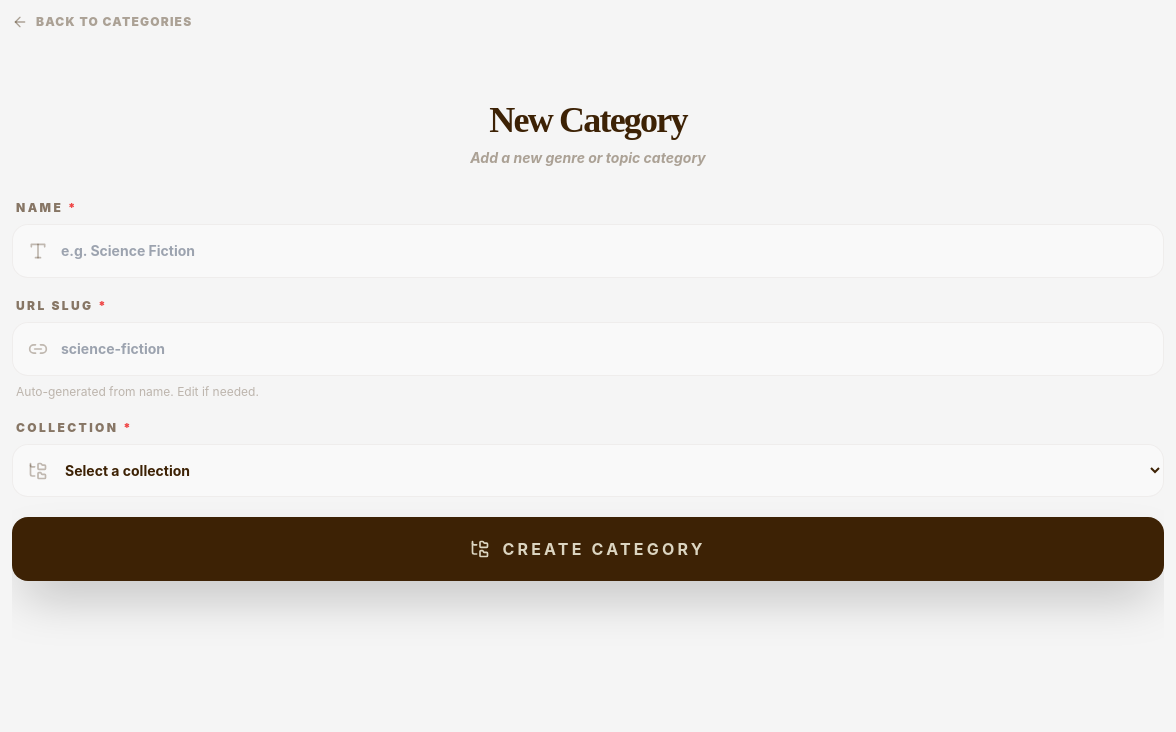
CategoryNewPage › shows error when submitting with empty fields
Expected: the text "Create Category" is shown, [502,537,706,561]
Click the button "Create Category".
click(588, 549)  # box [12,517,1164,581]
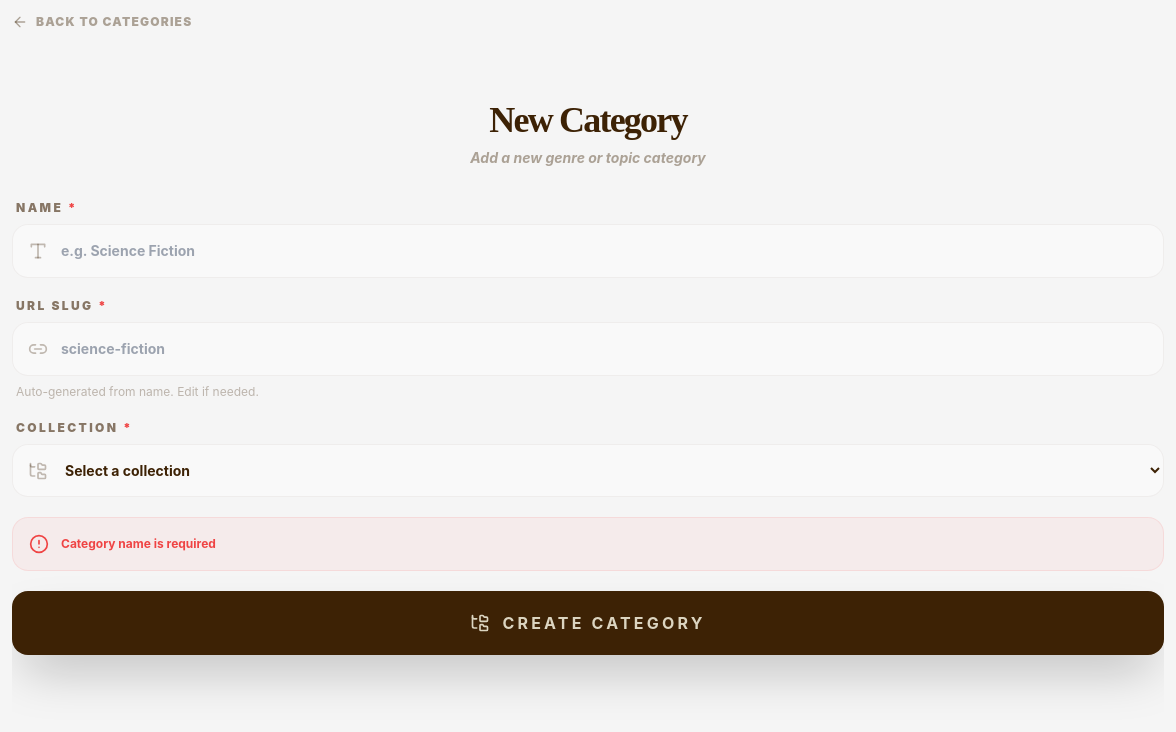
Expected: the text "Category name is required" is shown, [61,534,216,554]
